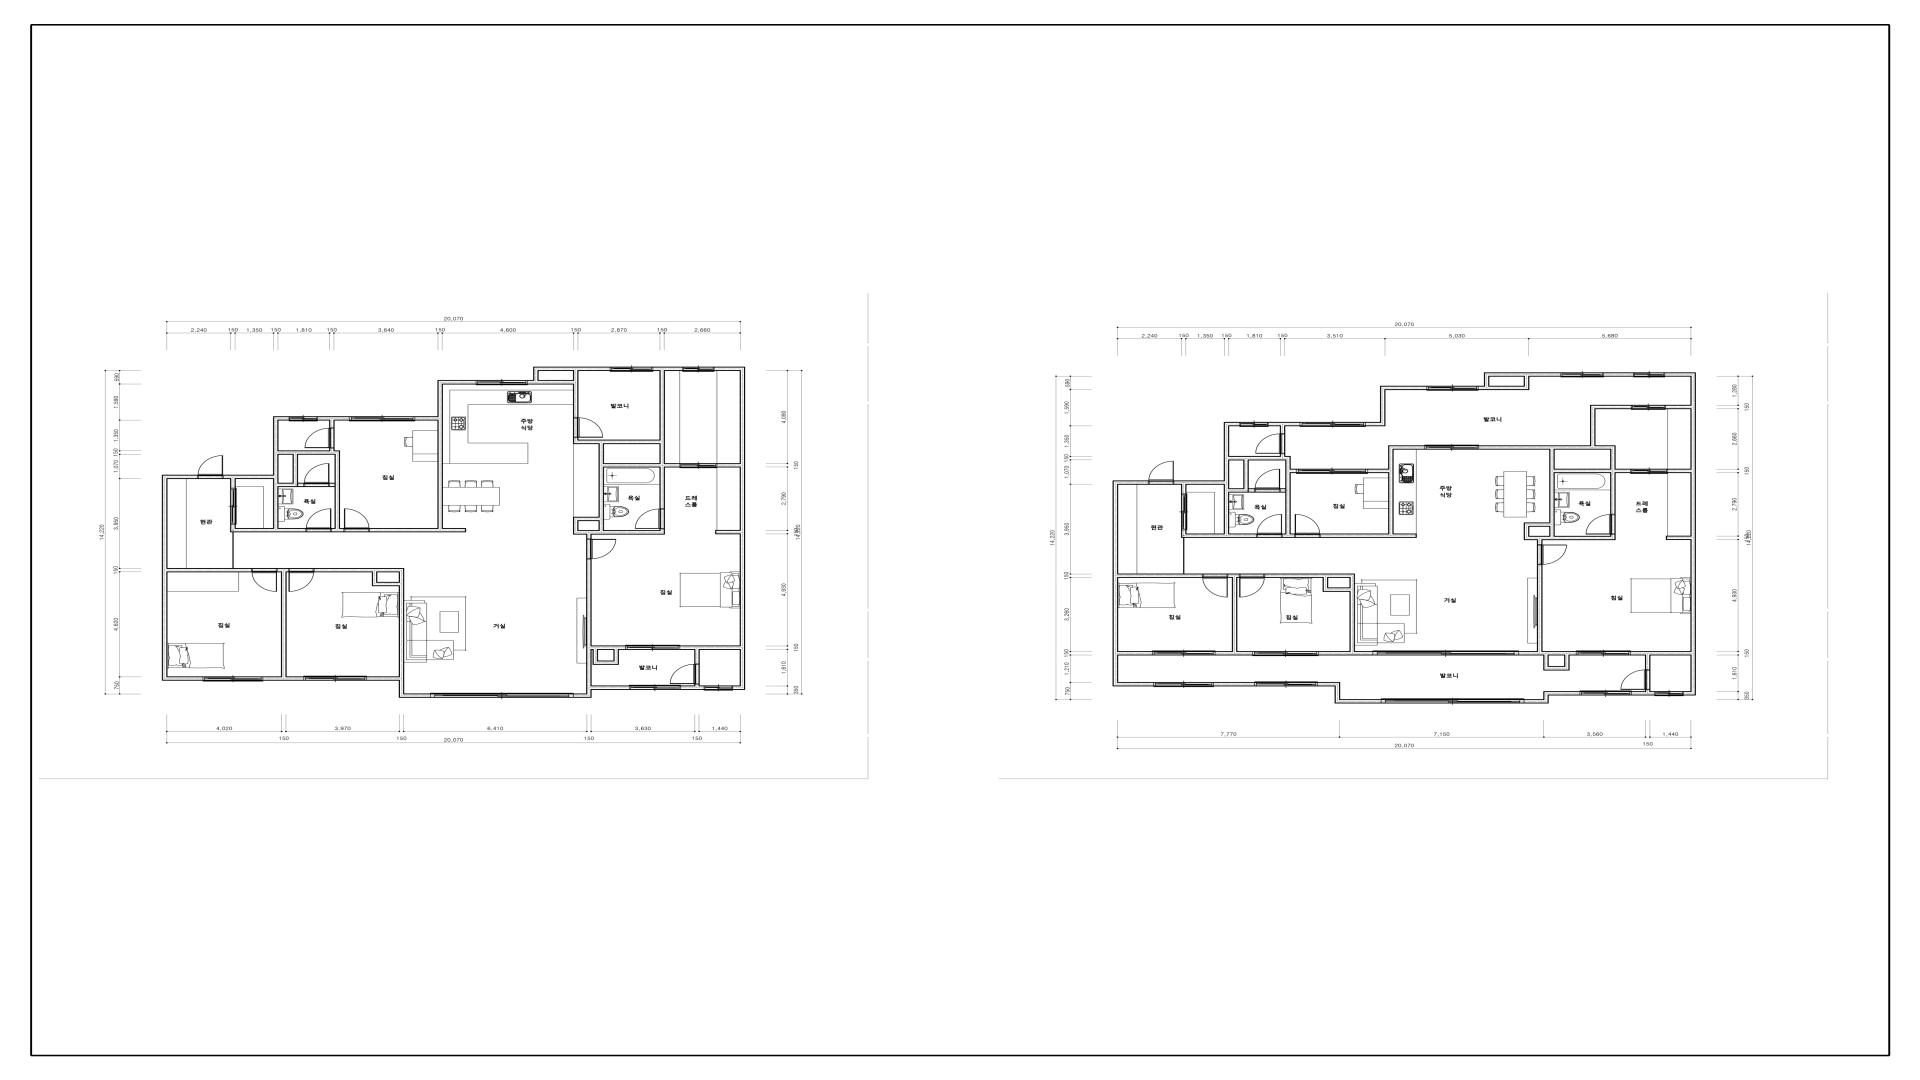door: (305, 427, 335, 448), (1255, 468, 1280, 493), (303, 463, 330, 487), (574, 417, 603, 438), (1621, 670, 1651, 690), (1255, 434, 1286, 454), (1585, 514, 1615, 534), (634, 509, 665, 529), (587, 539, 617, 559), (670, 665, 700, 684), (198, 455, 223, 479), (1149, 462, 1174, 485), (1257, 514, 1282, 538), (1295, 514, 1320, 538), (1203, 574, 1228, 597), (1240, 574, 1265, 597), (306, 509, 331, 533), (344, 509, 369, 533), (252, 568, 277, 592), (289, 568, 314, 592), (1538, 545, 1567, 564), (229, 488, 236, 525), (1182, 493, 1187, 530), (1631, 468, 1668, 473), (680, 463, 717, 468)
wall: (740, 371, 745, 686), (1691, 377, 1696, 691), (162, 479, 167, 676), (1113, 485, 1118, 682), (659, 371, 665, 509), (398, 568, 405, 676), (587, 559, 592, 686), (438, 421, 443, 527), (281, 572, 286, 676), (1478, 446, 1615, 450), (369, 527, 465, 533), (1389, 446, 1394, 534), (1538, 564, 1543, 651), (1524, 535, 1610, 541), (1549, 450, 1555, 535), (599, 444, 604, 530), (579, 439, 659, 444), (1555, 468, 1631, 473), (1286, 460, 1291, 534), (1349, 578, 1354, 651), (1232, 578, 1237, 651), (1489, 372, 1561, 377), (335, 455, 340, 527), (1320, 534, 1416, 538), (236, 527, 306, 533), (1265, 574, 1354, 578), (574, 530, 659, 534), (167, 568, 252, 572), (1118, 574, 1203, 578), (314, 568, 398, 572), (680, 645, 740, 650), (1174, 480, 1229, 485), (1224, 426, 1229, 480), (273, 421, 278, 475), (539, 367, 611, 371), (1187, 534, 1257, 538), (1224, 485, 1229, 534), (273, 479, 278, 527), (1229, 456, 1291, 460), (278, 451, 340, 455), (574, 371, 579, 417), (1630, 651, 1691, 655), (1518, 651, 1577, 655), (1317, 651, 1373, 655), (223, 475, 278, 479), (604, 463, 659, 467), (1113, 682, 1154, 687), (1610, 473, 1615, 514), (438, 380, 476, 385), (1590, 409, 1596, 446), (1335, 699, 1382, 703), (1113, 480, 1149, 485), (1381, 386, 1427, 390), (539, 380, 574, 385), (1213, 682, 1255, 686), (1381, 390, 1386, 422), (1664, 372, 1696, 377), (438, 385, 443, 417), (587, 686, 629, 690), (262, 676, 305, 680), (1590, 405, 1631, 409), (162, 676, 203, 680), (1604, 372, 1634, 377), (1490, 386, 1530, 390), (1215, 651, 1253, 655), (1543, 691, 1580, 695), (1244, 460, 1249, 488), (293, 455, 298, 483), (162, 475, 198, 479), (1323, 587, 1349, 592), (1118, 651, 1153, 655), (592, 646, 626, 650), (398, 694, 431, 698), (1394, 446, 1425, 450), (1269, 422, 1300, 426), (318, 417, 349, 421), (713, 367, 745, 371), (367, 676, 398, 680), (653, 367, 683, 371), (1668, 468, 1691, 473), (717, 463, 740, 468), (414, 417, 443, 421), (398, 676, 405, 694), (377, 582, 398, 587), (1367, 468, 1389, 473), (1229, 488, 1249, 493), (1543, 666, 1569, 670), (592, 661, 618, 665), (1665, 405, 1691, 409), (1665, 535, 1691, 539), (1524, 522, 1549, 526), (1610, 450, 1615, 468), (1484, 372, 1490, 386), (1631, 691, 1655, 695), (680, 686, 704, 690), (716, 530, 740, 534), (1335, 682, 1340, 699), (1317, 682, 1335, 687), (533, 367, 539, 380), (1365, 422, 1386, 426), (665, 463, 680, 468), (278, 483, 298, 487), (579, 517, 599, 521), (372, 572, 377, 587), (1646, 655, 1651, 670), (695, 650, 700, 665), (1524, 699, 1543, 703), (331, 527, 344, 533), (574, 517, 579, 530), (592, 650, 599, 661), (1224, 422, 1240, 426), (527, 380, 539, 385), (273, 417, 289, 421), (229, 479, 236, 488), (1564, 655, 1569, 666), (1543, 655, 1548, 666), (613, 650, 618, 661), (1543, 695, 1549, 703), (1282, 534, 1295, 538), (732, 686, 745, 690), (574, 694, 587, 698), (1524, 377, 1530, 386), (1524, 526, 1530, 535), (1323, 578, 1328, 587), (277, 568, 289, 572), (1228, 574, 1240, 578), (1478, 386, 1490, 390), (1684, 691, 1696, 695), (1182, 485, 1187, 493), (1182, 530, 1187, 538), (587, 690, 592, 698), (231, 525, 236, 533), (1249, 488, 1255, 493), (1610, 534, 1615, 541), (330, 421, 335, 427), (574, 438, 579, 444), (1280, 488, 1286, 493), (1291, 468, 1296, 473), (659, 529, 665, 534), (587, 534, 592, 539), (1536, 541, 1543, 545), (298, 483, 303, 487), (330, 483, 335, 487), (1280, 454, 1286, 456), (330, 448, 335, 451), (1646, 690, 1651, 691), (695, 684, 700, 686)
window: (1373, 650, 1518, 655), (431, 692, 574, 698), (1382, 699, 1524, 703), (1296, 468, 1367, 473), (1300, 422, 1366, 427), (1253, 651, 1319, 657), (1153, 650, 1215, 655), (305, 675, 367, 680), (1154, 682, 1213, 687), (203, 676, 262, 682), (625, 645, 680, 650), (1576, 650, 1630, 655), (1425, 444, 1478, 450), (476, 380, 527, 385), (629, 684, 680, 690), (349, 417, 415, 421), (1255, 682, 1317, 686), (1561, 372, 1604, 377), (611, 367, 653, 372), (1427, 386, 1478, 390), (1580, 691, 1631, 695), (1631, 405, 1665, 410), (1634, 372, 1664, 377), (683, 367, 713, 372), (1240, 422, 1269, 427), (1655, 691, 1684, 696), (289, 417, 318, 422), (704, 686, 732, 691)
